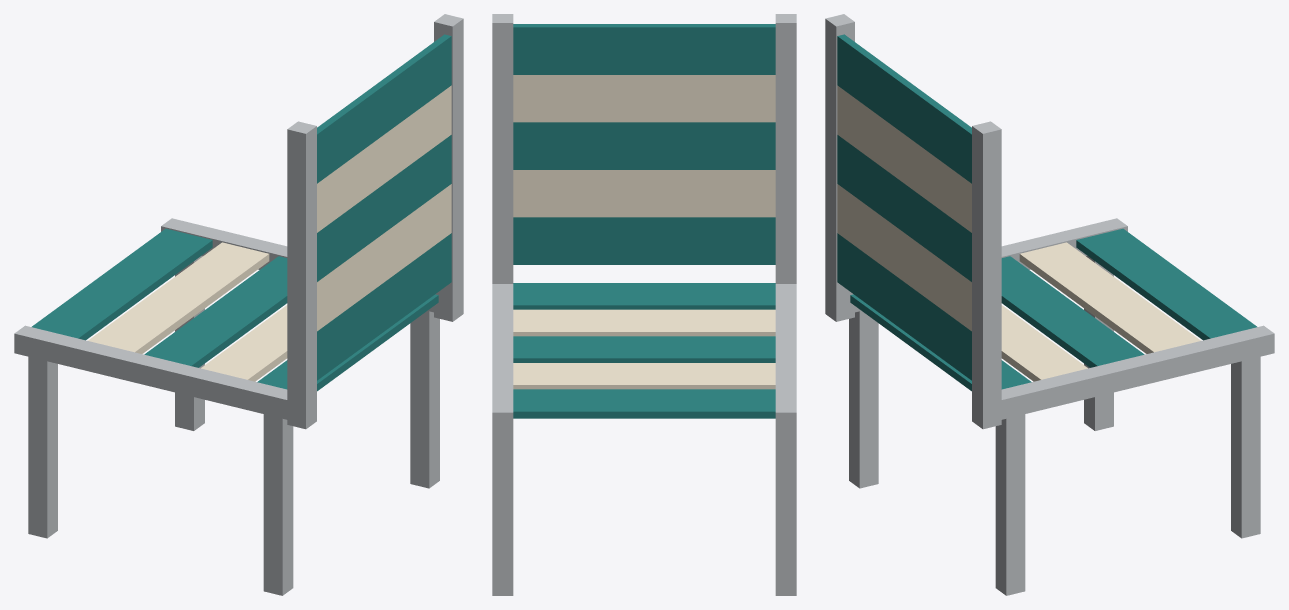
Rendered from lawn_chair.glb.
3 views of the same model, side by side, from view 1: azimuth 30°, elevation 25°; view 2: azimuth 150°, elevation 25°; view 3: azimuth 270°, elevation 25° (orthographic). The views are drawn at different scales.
Visible parts, largest first — view 1: Box4, Box1, Box18, Box11, Box9, Box10, Box16, Box12, Box14, Box13, Box2, Box3 (+6 smaller); view 2: Box18, Box10, Box12, Box14, Box16, Box9, Box15, Box11, Box13, Box17, Box4, Box8 (+4 smaller); view 3: Box8, Box5, Box18, Box11, Box9, Box10, Box16, Box12, Box14, Box13, Box6, Box7 (+6 smaller).
Boxes of the visible parts, x1,y1,x2,y2 form: Box4: (287, 121, 316, 429); Box1: (14, 325, 296, 421); Box18: (317, 34, 451, 183); Box11: (88, 242, 269, 353); Box9: (32, 228, 212, 340); Box10: (317, 233, 451, 380); Box16: (317, 85, 451, 232); Box12: (317, 184, 451, 331); Box14: (317, 135, 451, 281); Box13: (144, 256, 287, 367); Box2: (28, 329, 57, 538); Box3: (263, 386, 293, 595); Box18: (513, 24, 775, 74); Box10: (513, 217, 775, 264); Box12: (513, 170, 775, 217); Box14: (513, 122, 775, 169); Box16: (513, 75, 775, 122); Box9: (513, 389, 775, 418); Box15: (513, 309, 775, 336); Box11: (513, 363, 775, 389); Box13: (513, 336, 775, 362); Box17: (513, 283, 775, 309); Box4: (775, 14, 796, 283); Box8: (492, 14, 513, 283); Box8: (972, 121, 1001, 429); Box5: (992, 325, 1274, 421); Box18: (837, 34, 971, 183); Box11: (1019, 242, 1200, 353); Box9: (1076, 228, 1256, 340); Box10: (837, 233, 971, 380); Box16: (837, 85, 971, 232); Box12: (837, 184, 971, 331); Box14: (837, 135, 971, 281); Box13: (1001, 256, 1144, 367); Box6: (1231, 329, 1260, 538); Box7: (995, 386, 1025, 595).
Size of the model in its own units: 0.8123 by 0.95 by 0.8269.
